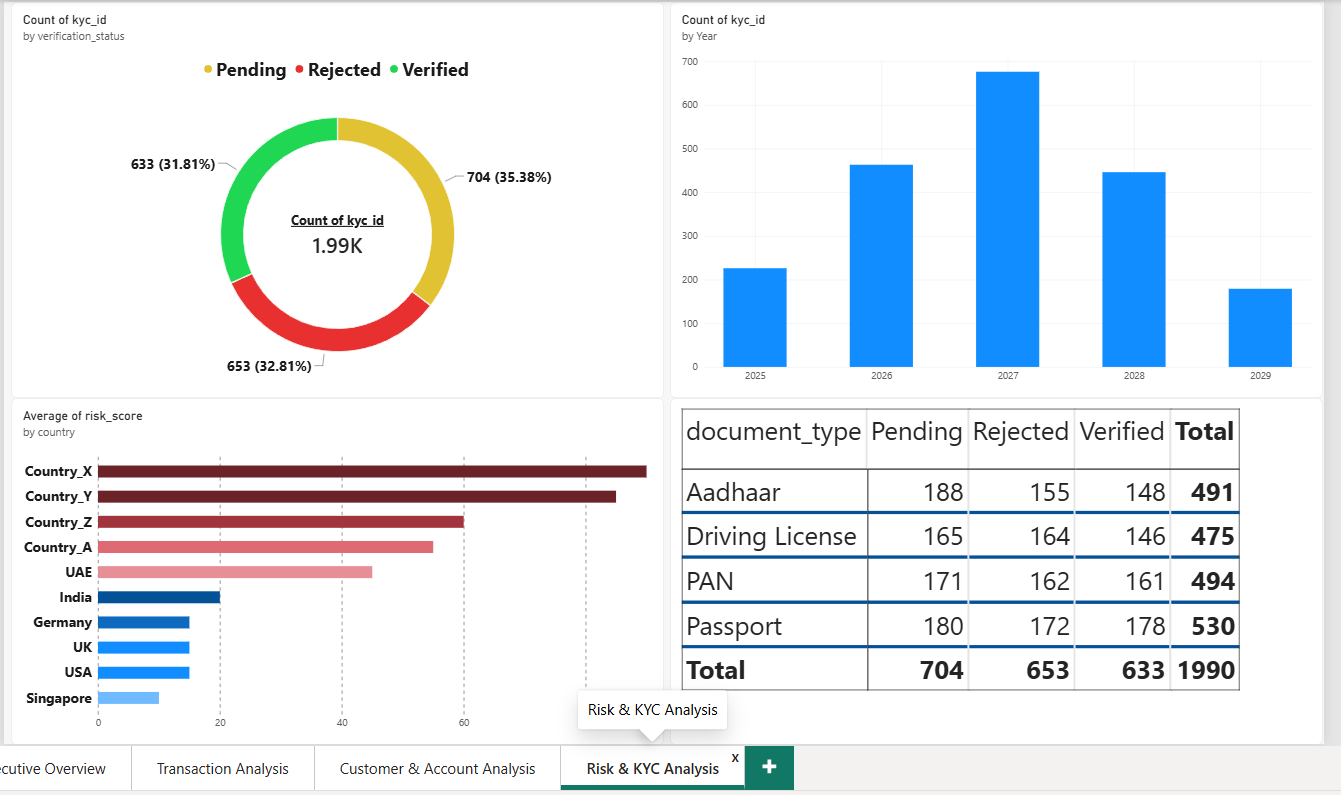

The page's visual inventory and layout, read from the dashboard file:
{"tool":"powerbi","page":{"name":"Risk & KYC Analysis","canvas":[1920,1080],"ordinal":3},"visuals":[{"type":"donutChart","fields":{"Category":["public kyc_records.verification_status"],"Y":["CountNonNull(public kyc_records.kyc_id)"]},"box":[10.3,0,948.9,576.3],"z":0},{"type":"clusteredBarChart","fields":{"Category":["public country_risk.country"],"Y":["Avg(public country_risk.risk_score)"]},"box":[10.3,576.3,948.9,504.3],"z":1000},{"type":"clusteredColumnChart","fields":{"Category":["public kyc_records.expiry_date.Variation.Date Hierarchy.Year"],"Y":["CountNonNull(public kyc_records.kyc_id)"]},"box":[969,0,949,576],"z":1001},{"type":"pivotTable","fields":{"Columns":["public kyc_records.verification_status"],"Rows":["public kyc_records.document_type"],"Values":["Count(public kyc_records.kyc_id)"]},"box":[969,576,949,504],"z":1002}]}

Visuals, with their boxes on the page's 1920x1080 design canvas (x1, y1, x2, y2). These are canvas units, not pixel positions in the 1341x795 screenshot, which may show the page scaled, cropped or inside an application window:
donutChart - public kyc_records.verification_status x CountNonNull(public kyc_records.kyc_id): box=[10, 0, 959, 576]
clusteredBarChart - public country_risk.country x Avg(public country_risk.risk_score): box=[10, 576, 959, 1081]
clusteredColumnChart - public kyc_records.expiry_date.Variation.Date Hierarchy.Year x CountNonNull(public kyc_records.kyc_id): box=[969, 0, 1918, 576]
pivotTable - public kyc_records.verification_status x public kyc_records.document_type: box=[969, 576, 1918, 1080]
